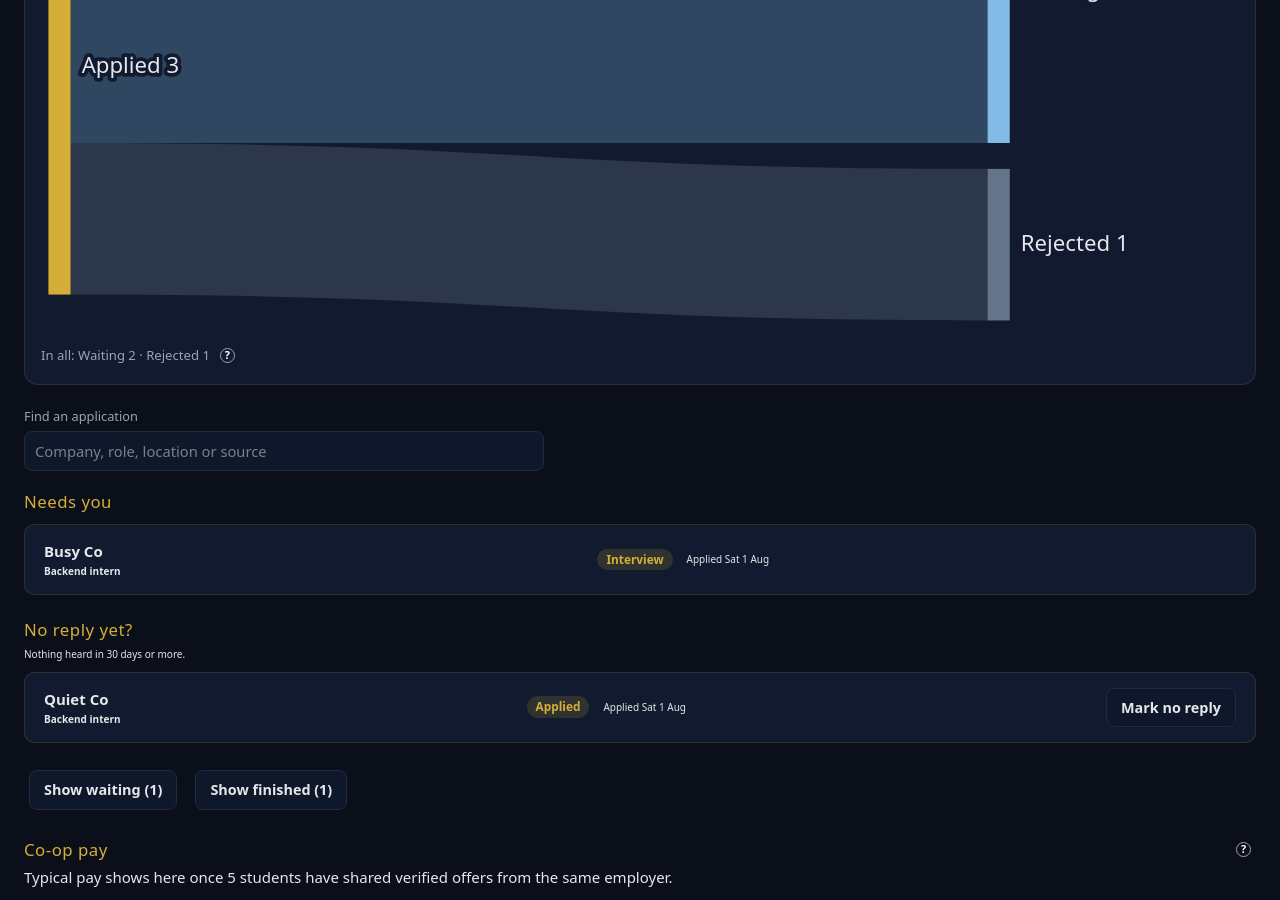
Scenario: the tracker page › finds any application by search, finished ones included, in place of the lists
(page scrolled)
Check: the text "Quiet Co" is shown, box x1=44 y1=688 x2=108 y2=710
Type "done" into the search field labelled "Find an application" at (284, 451), box x1=24 y1=431 x2=544 y2=471
(page scrolled)
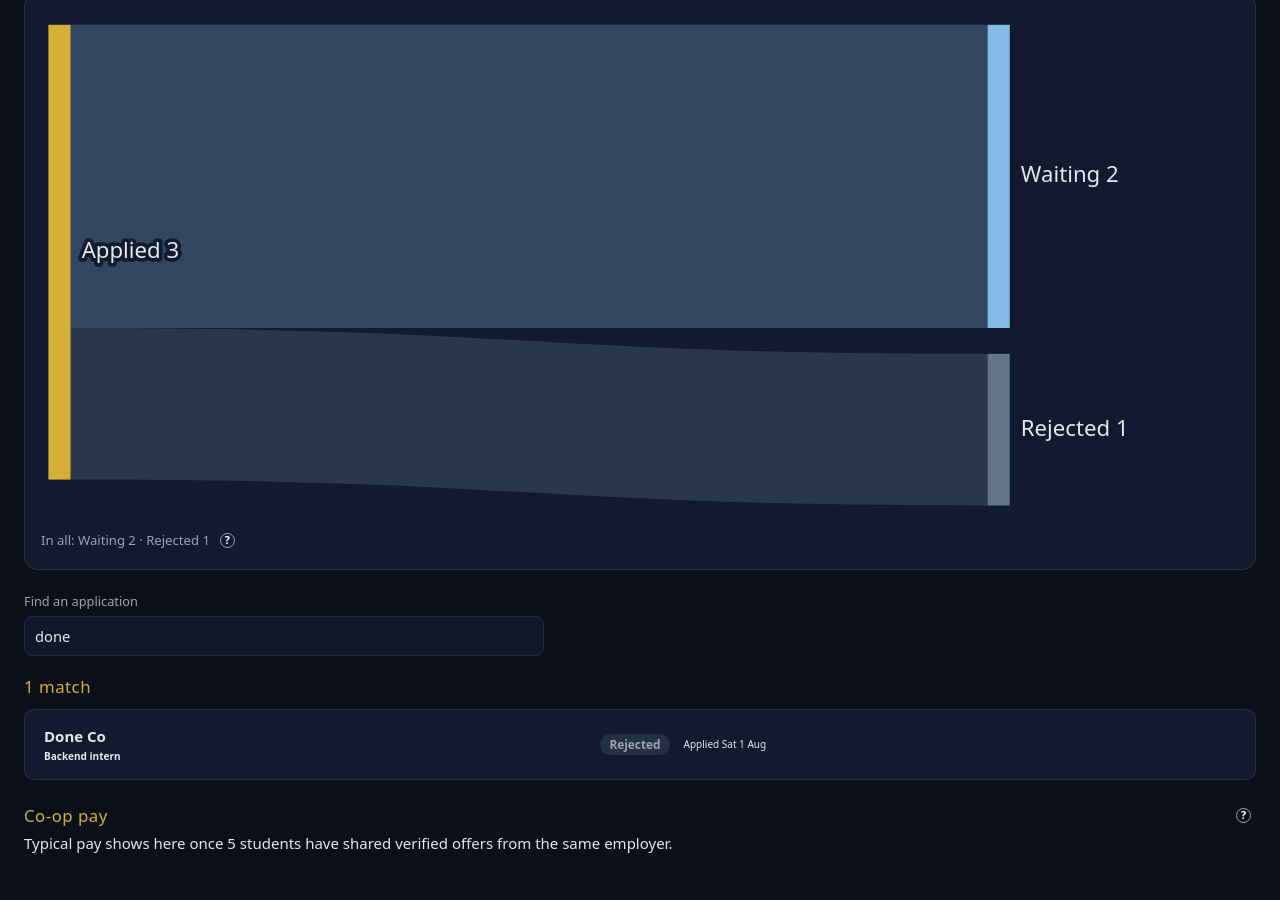
Check: the element named "Search results" shows "1 match", box x1=24 y1=675 x2=91 y2=698
Check: the element named "Search results" shows "Done Co", box x1=44 y1=725 x2=582 y2=764
Check: the button "Busy Co" is gone
